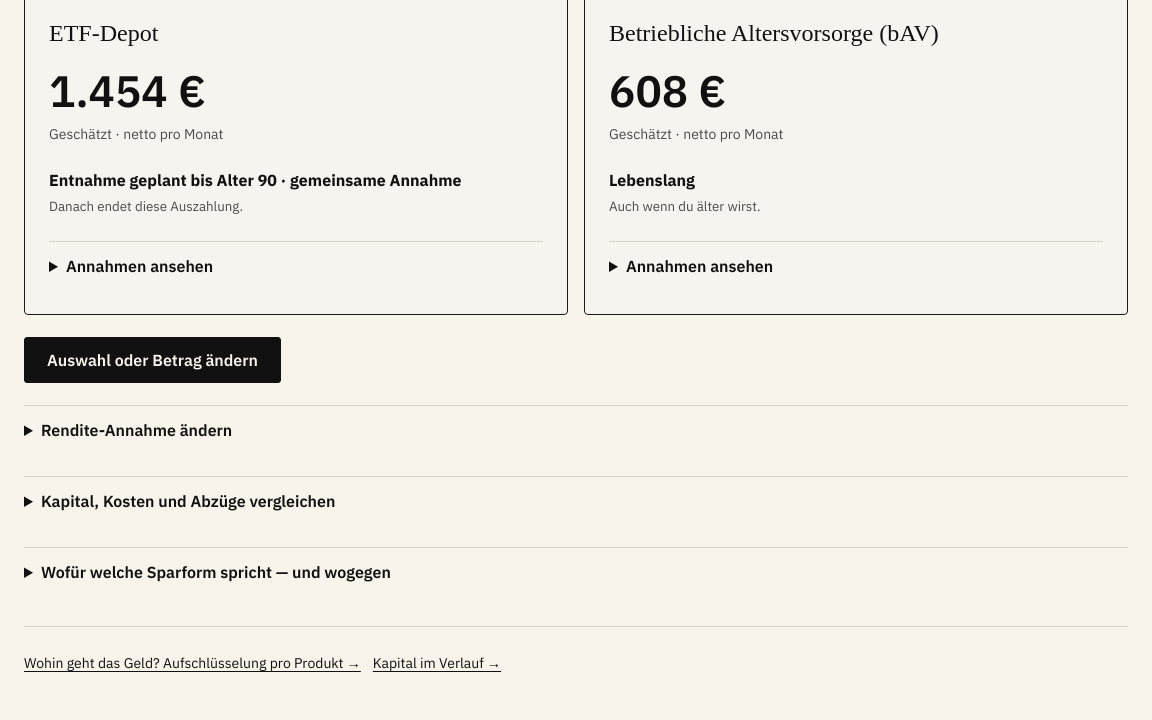
Scenario: comparison journey with real compare-state handlers › edits the compare profile and budget without creating a combine workspace
This screenshot has width=1152, height=720.
(page scrolled)
Step 1. Click the button "Auswahl oder Betrag ändern" → {"x": 152, "y": 360}, box [24,337,281,383]
(page scrolled)
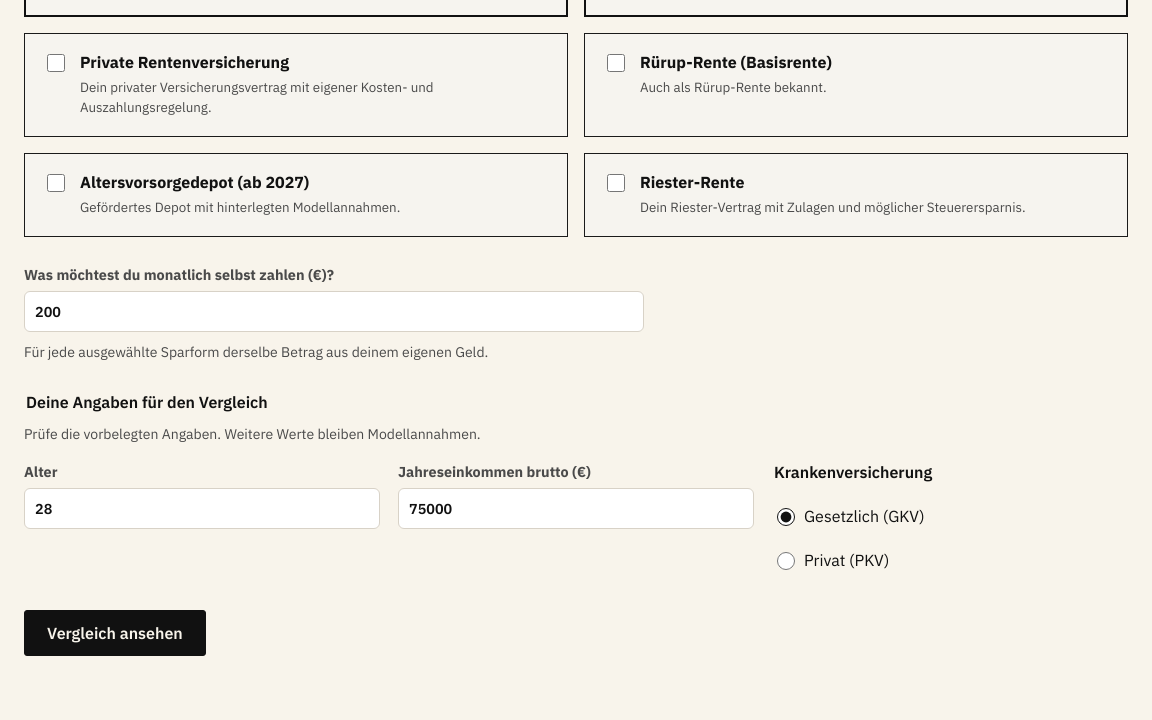
Step 2. Replace the text in the number field labelled "Alter" with "42" → {"x": 202, "y": 508}, box [25,489,379,528]
Step 3. Replace the text in the number field labelled "Jahreseinkommen brutto (€)" with "81000" → {"x": 576, "y": 508}, box [399,489,753,528]
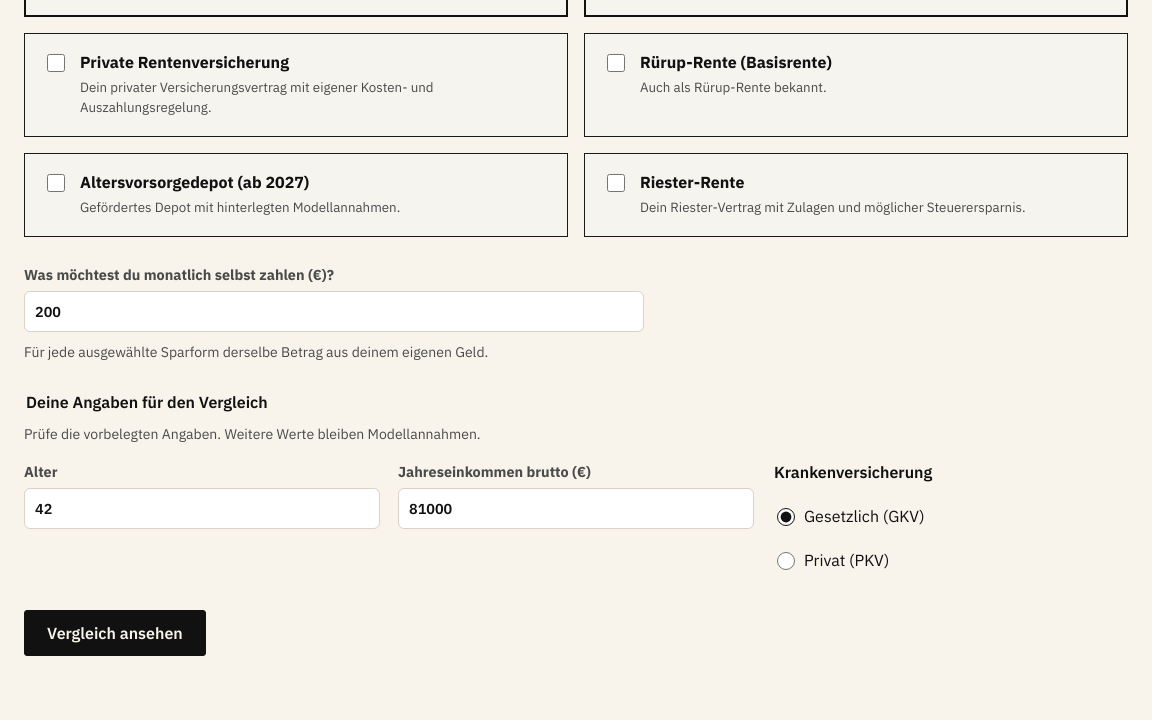
Step 4. Replace the text in the number field labelled "Was möchtest du monatlich selbst zahlen (€)?" with "240" → {"x": 334, "y": 312}, box [25,292,643,331]
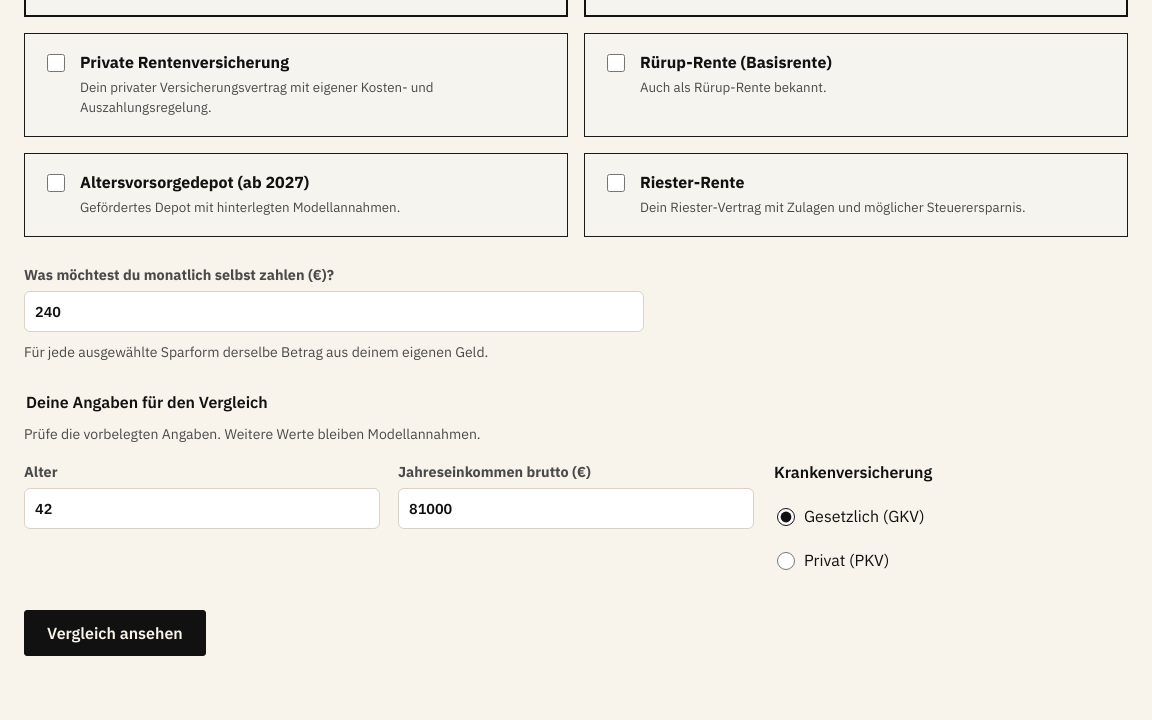
Step 5. Click the radio button labelled "Privat (PKV)" → {"x": 786, "y": 561}, box [777,552,795,570]
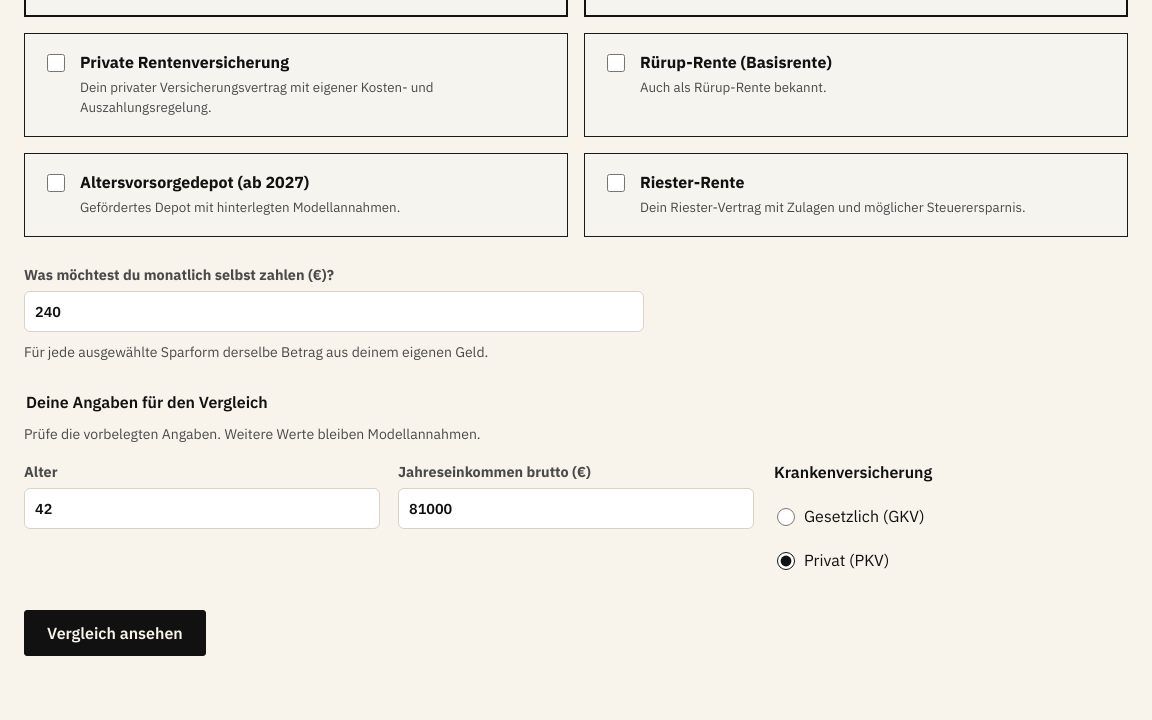
Step 6. Click the button "Vergleich ansehen" → {"x": 115, "y": 633}, box [24,610,206,656]
(page scrolled)
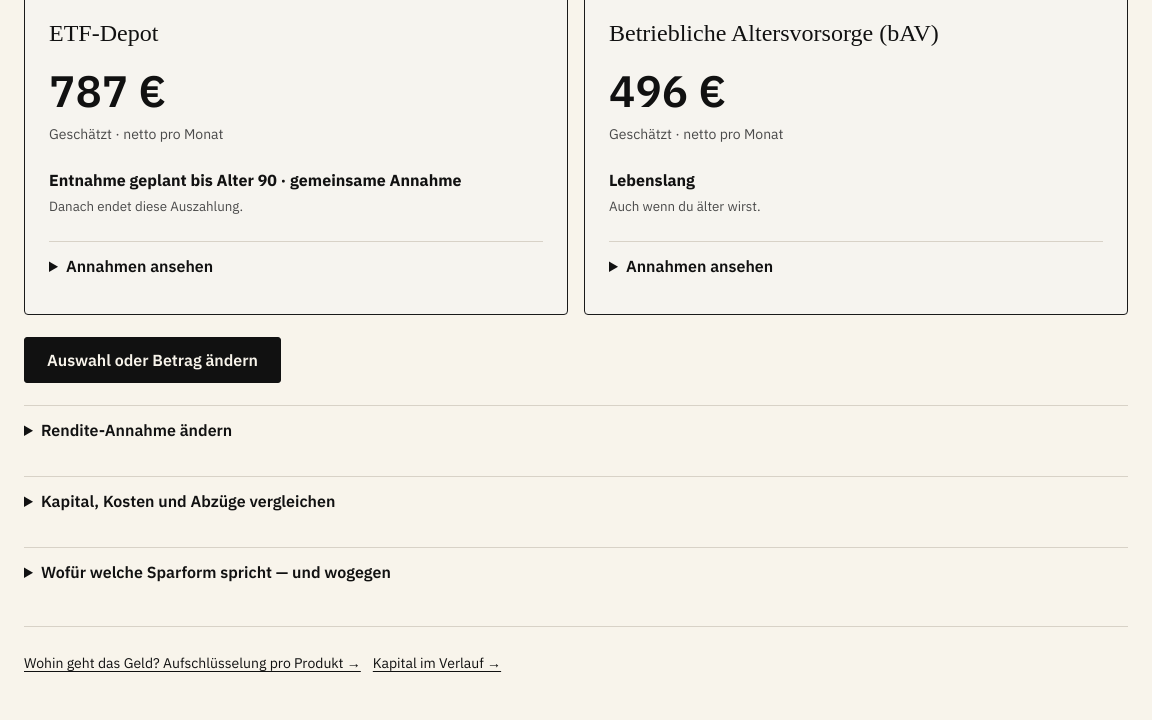
Step 7. Click the button "Auswahl oder Betrag ändern" → {"x": 152, "y": 360}, box [24,337,281,383]
(page scrolled)
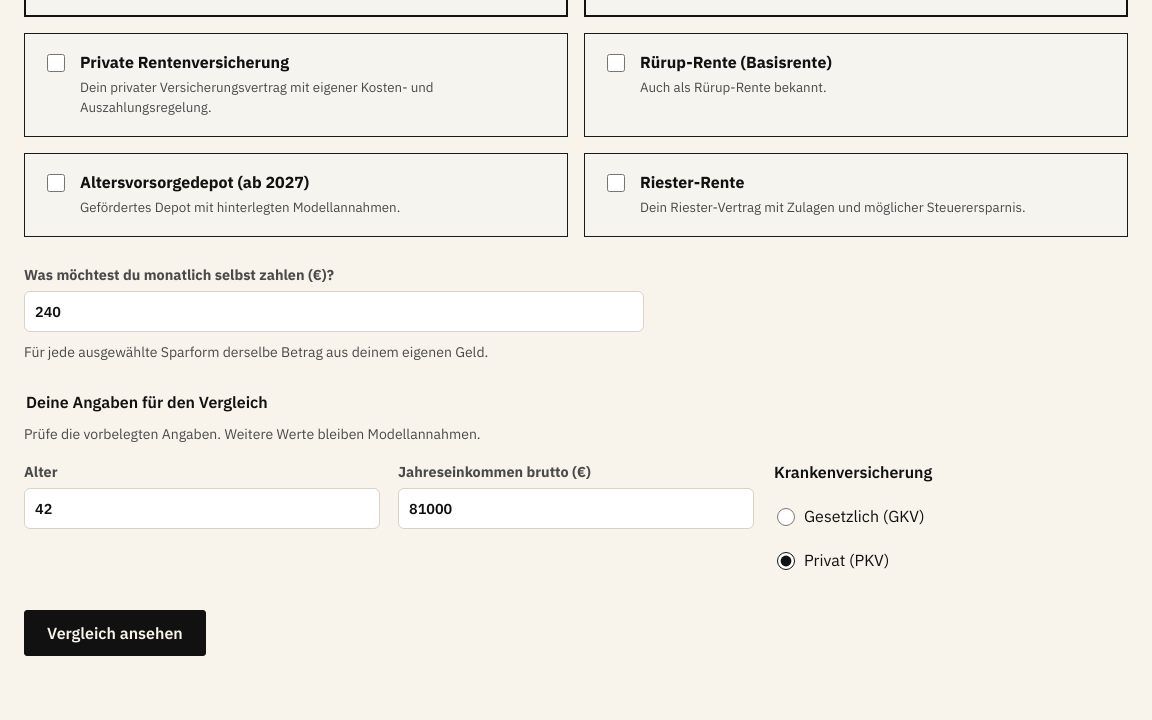
Expected: the number field labelled "Alter" holds "42", [25,489,379,528]
Expected: the radio button labelled "Privat (PKV)" is checked, [777,552,795,570]
